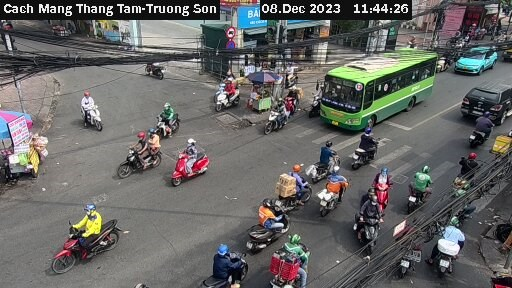bus: (319, 47, 437, 131)
car: (459, 80, 512, 124), (454, 44, 499, 78)
motorbike: (47, 212, 116, 271), (264, 245, 321, 288), (434, 217, 473, 277), (350, 197, 392, 252), (199, 245, 250, 288), (244, 206, 294, 249), (116, 137, 164, 180), (172, 141, 212, 189), (74, 95, 119, 136), (269, 168, 314, 209), (446, 151, 483, 199), (345, 128, 385, 168), (403, 164, 436, 211), (313, 176, 352, 215), (304, 138, 343, 176), (147, 104, 187, 137), (462, 109, 495, 149), (258, 98, 294, 133), (370, 166, 400, 205), (212, 82, 245, 114), (143, 54, 170, 83)
